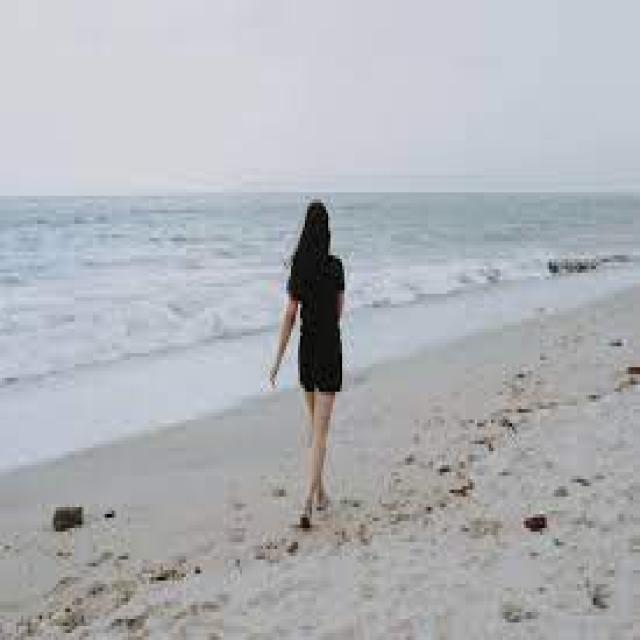Person: (272, 200, 346, 524)
